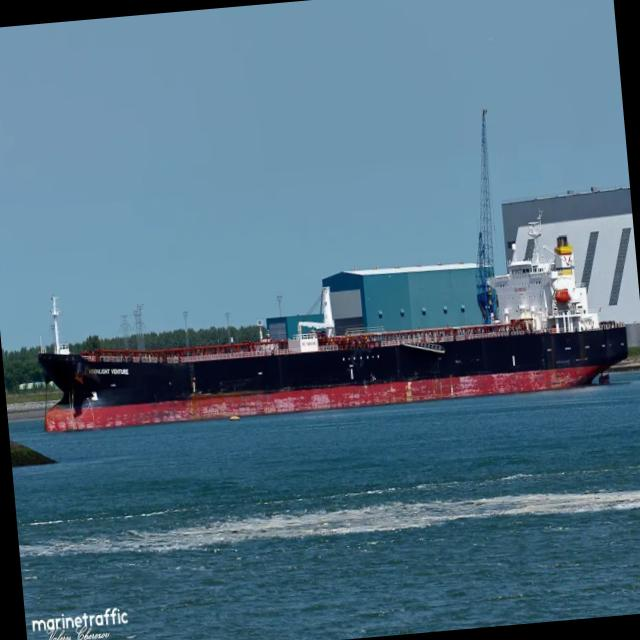Tanker: (38, 219, 627, 431)
